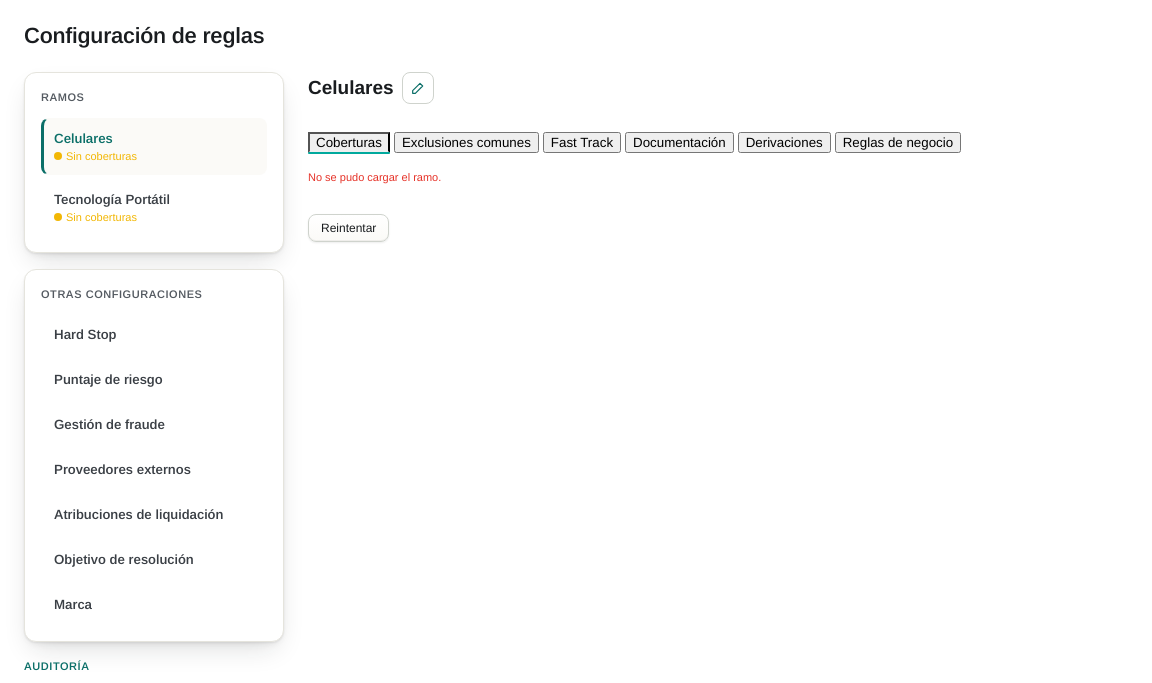
Scenario: RulesComponent › when part of the branch fails to load › loads the branch again on Reintentar
Click the button "Reintentar" at (349, 228), box [308,214,389,242]
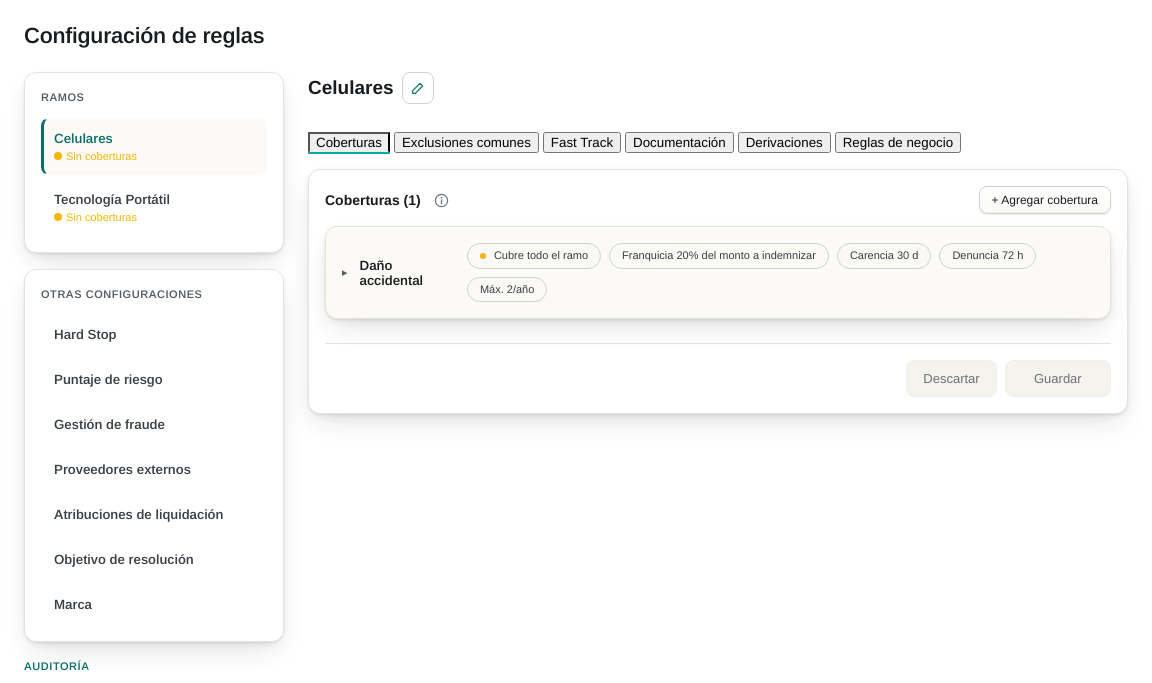
Now the text "No se pudo cargar el ramo." is gone
Now the element with class "cov-card" is shown, box [325,226,1111,319]
